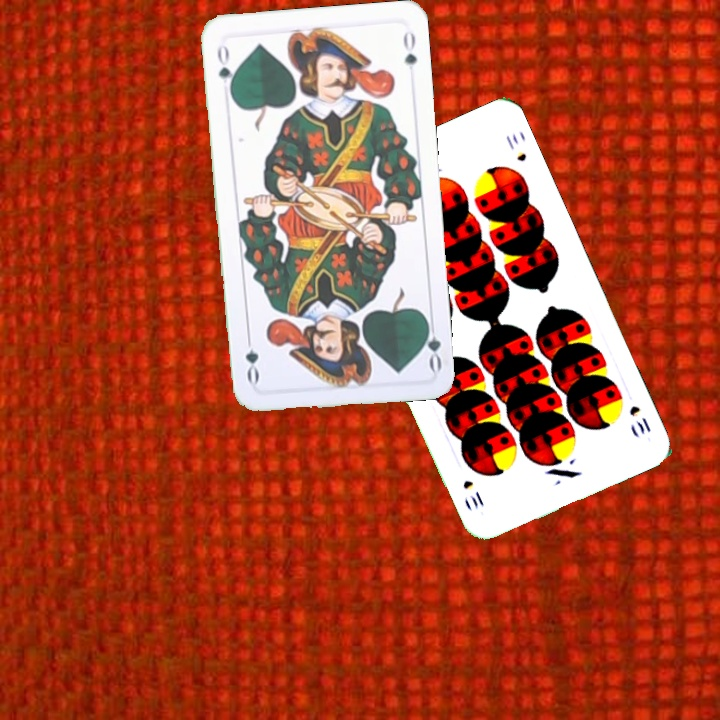GO: (418, 314, 444, 373), (213, 41, 237, 98)
S10: (625, 401, 654, 437)
